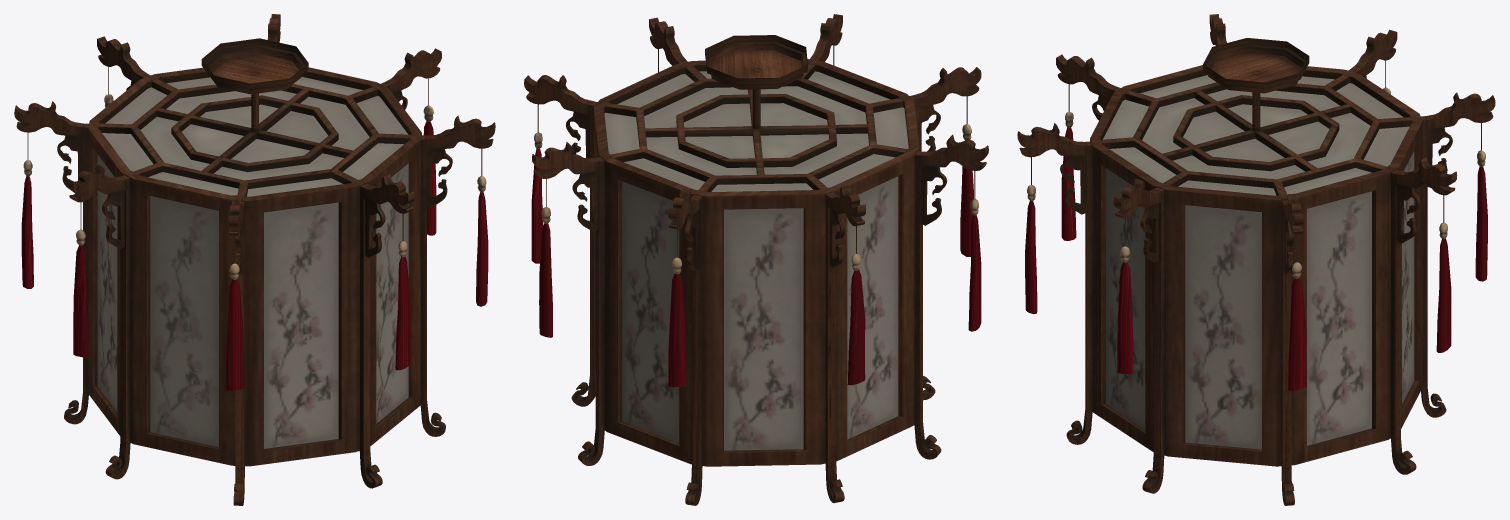
File: chinese_chandelier.glb
3 views of the same model, side by side, from view 1: azimuth 30°, elevation 25°; view 2: azimuth 150°, elevation 25°; view 3: azimuth 270°, elevation 25° (orthographic).
Visible parts, largest first — view 1: chinese_chandelier; view 2: chinese_chandelier; view 3: chinese_chandelier.
Boxes of the visible parts, left/top/right/bottom form: chinese_chandelier: left=14, top=14, right=495, bottom=505; chinese_chandelier: left=524, top=14, right=988, bottom=505; chinese_chandelier: left=1017, top=14, right=1495, bottom=505.
Size of the model in its own units: 0.8784 by 0.7483 by 0.8787.
1 material, 1 textured.
